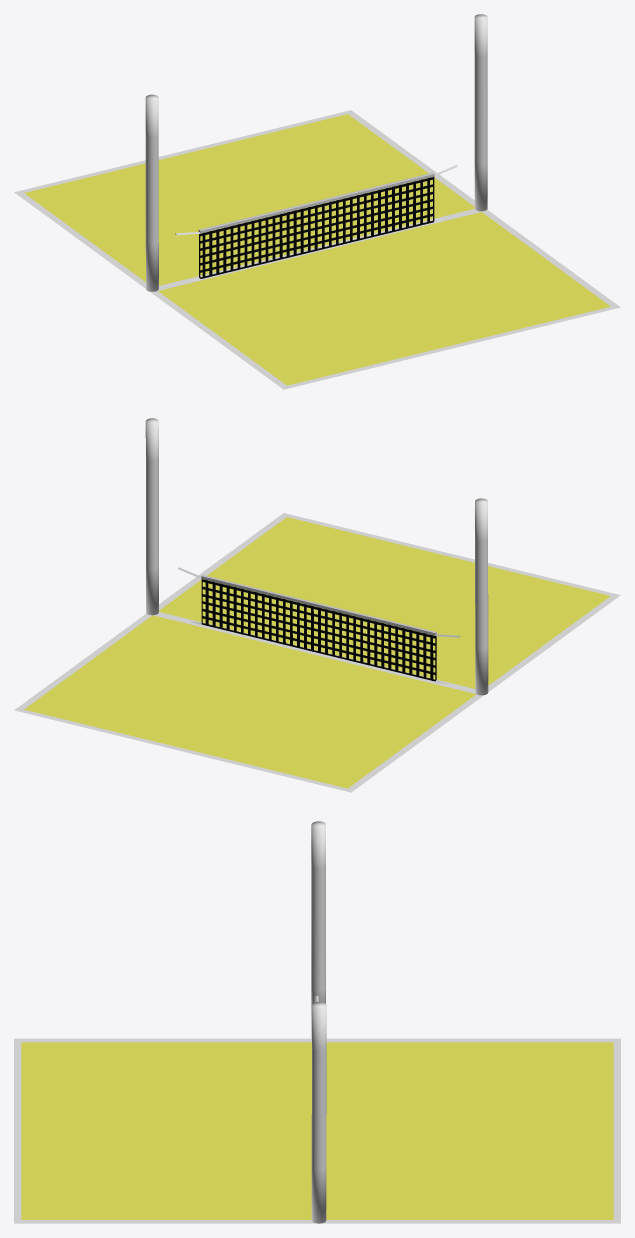
Rendered from net_new.fbx.
3 renders of one model, top to bottom at view 1: azimuth 30°, elevation 25°; view 2: azimuth 150°, elevation 25°; view 3: azimuth 270°, elevation 25°, orthographic. The views are drawn at different scales.
Parts seen in each view (by area): view 1: Plane.002, Plane, Cylinder, Cylinder.001; view 2: Plane.002, Plane, Cylinder.001, Cylinder; view 3: Plane.002, Cylinder, Cylinder.001.
Boxes of the visible parts, x1,y1,x2,y2 form: Plane.002: [14, 110, 620, 389]; Plane: [175, 165, 457, 281]; Cylinder: [474, 14, 487, 211]; Cylinder.001: [145, 94, 158, 291]; Plane.002: [14, 513, 620, 792]; Plane: [178, 567, 460, 684]; Cylinder.001: [475, 498, 488, 695]; Cylinder: [145, 418, 158, 615]; Plane.002: [14, 1038, 620, 1223]; Cylinder: [311, 1002, 326, 1223]; Cylinder.001: [311, 821, 325, 1040].
Size of the model in its own units: 1453 by 795 by 1995.
